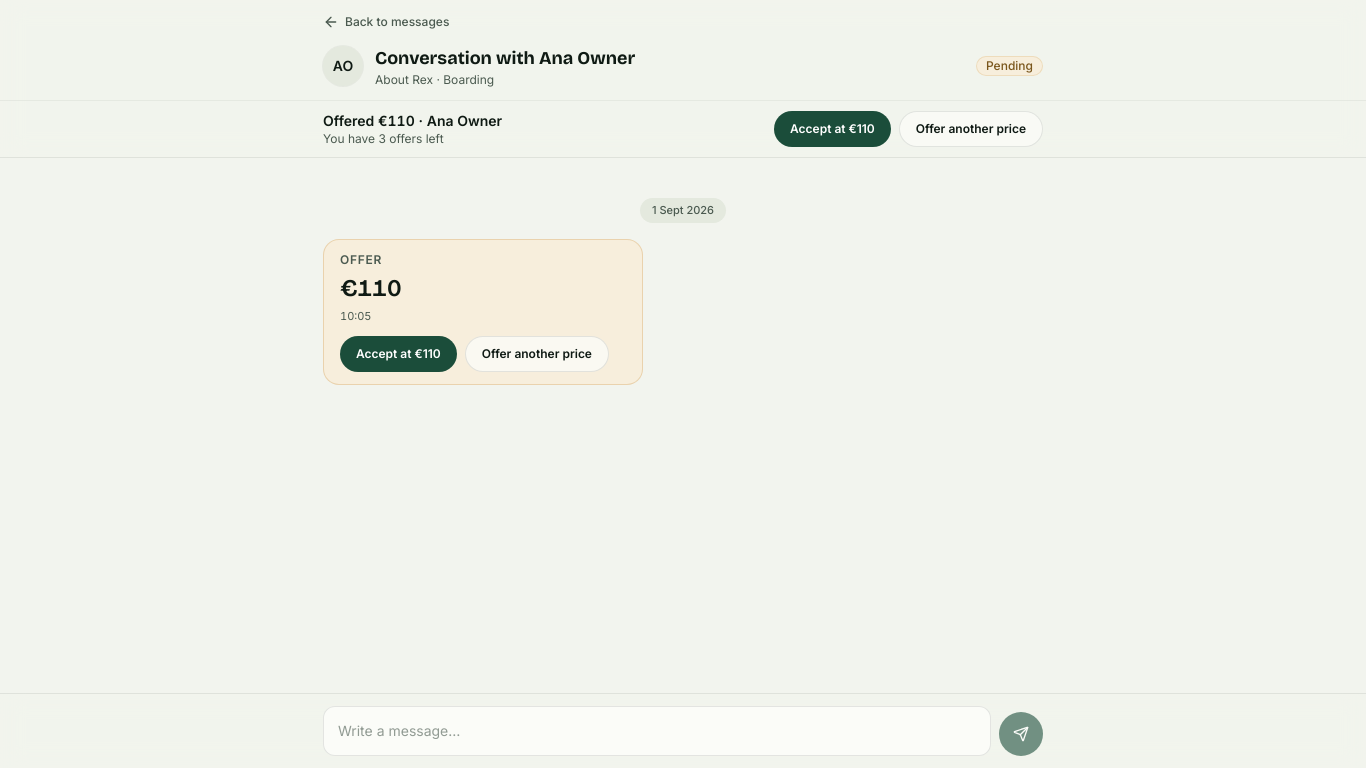
Test: price and offers (2026-09-15) › still tells the sitter to free their own days when accepting clashes
The image size is (1366, 768).
Expected: the element named "Conversation with Ana Owner" is shown, [323,198,726,385]
Click the button "Accept at €110" in the row of "Offered €110 · Ana Owner". click: (832, 129)
box: [774,111,891,147]
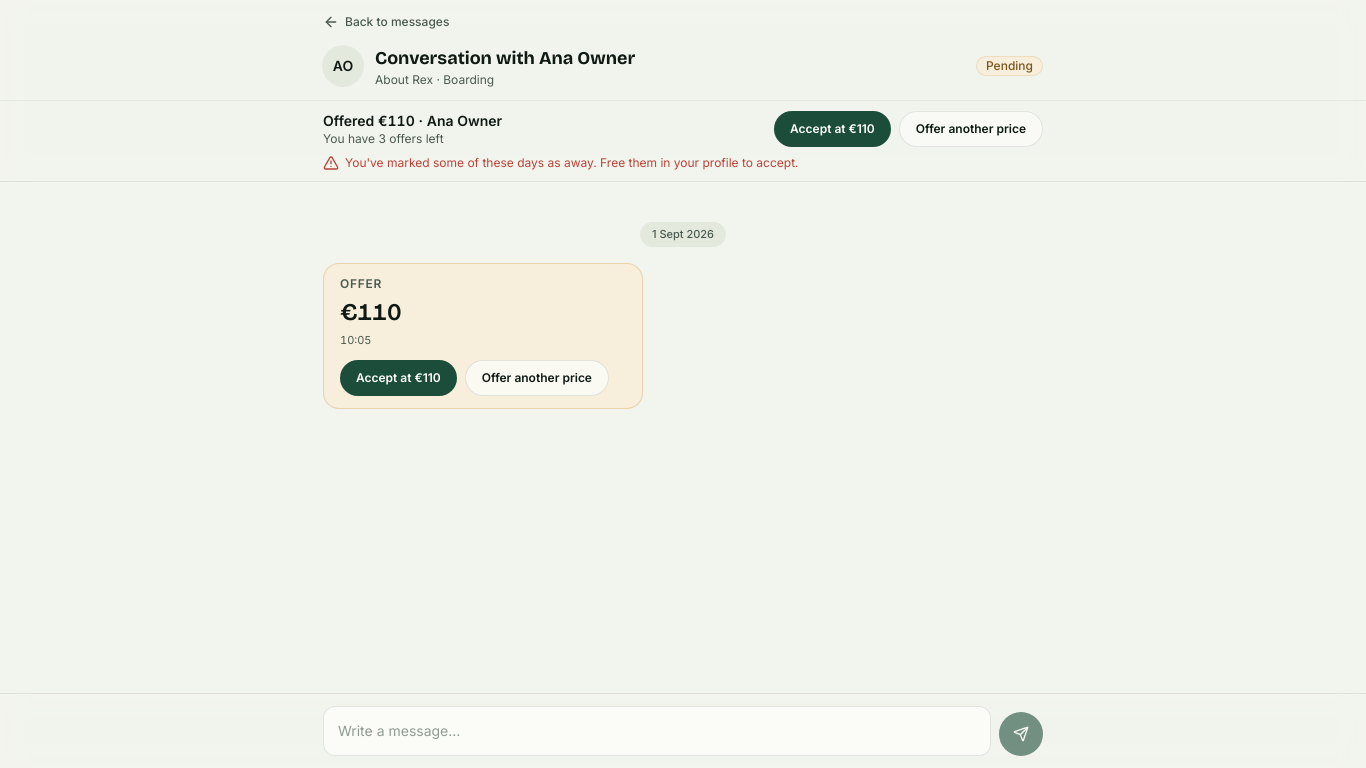
Result: the text "You've marked some of these days as away. Free them in your profile to accept." is shown at [323,155,798,171]
